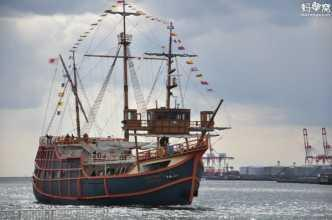fanchuan: (27, 2, 228, 203)
